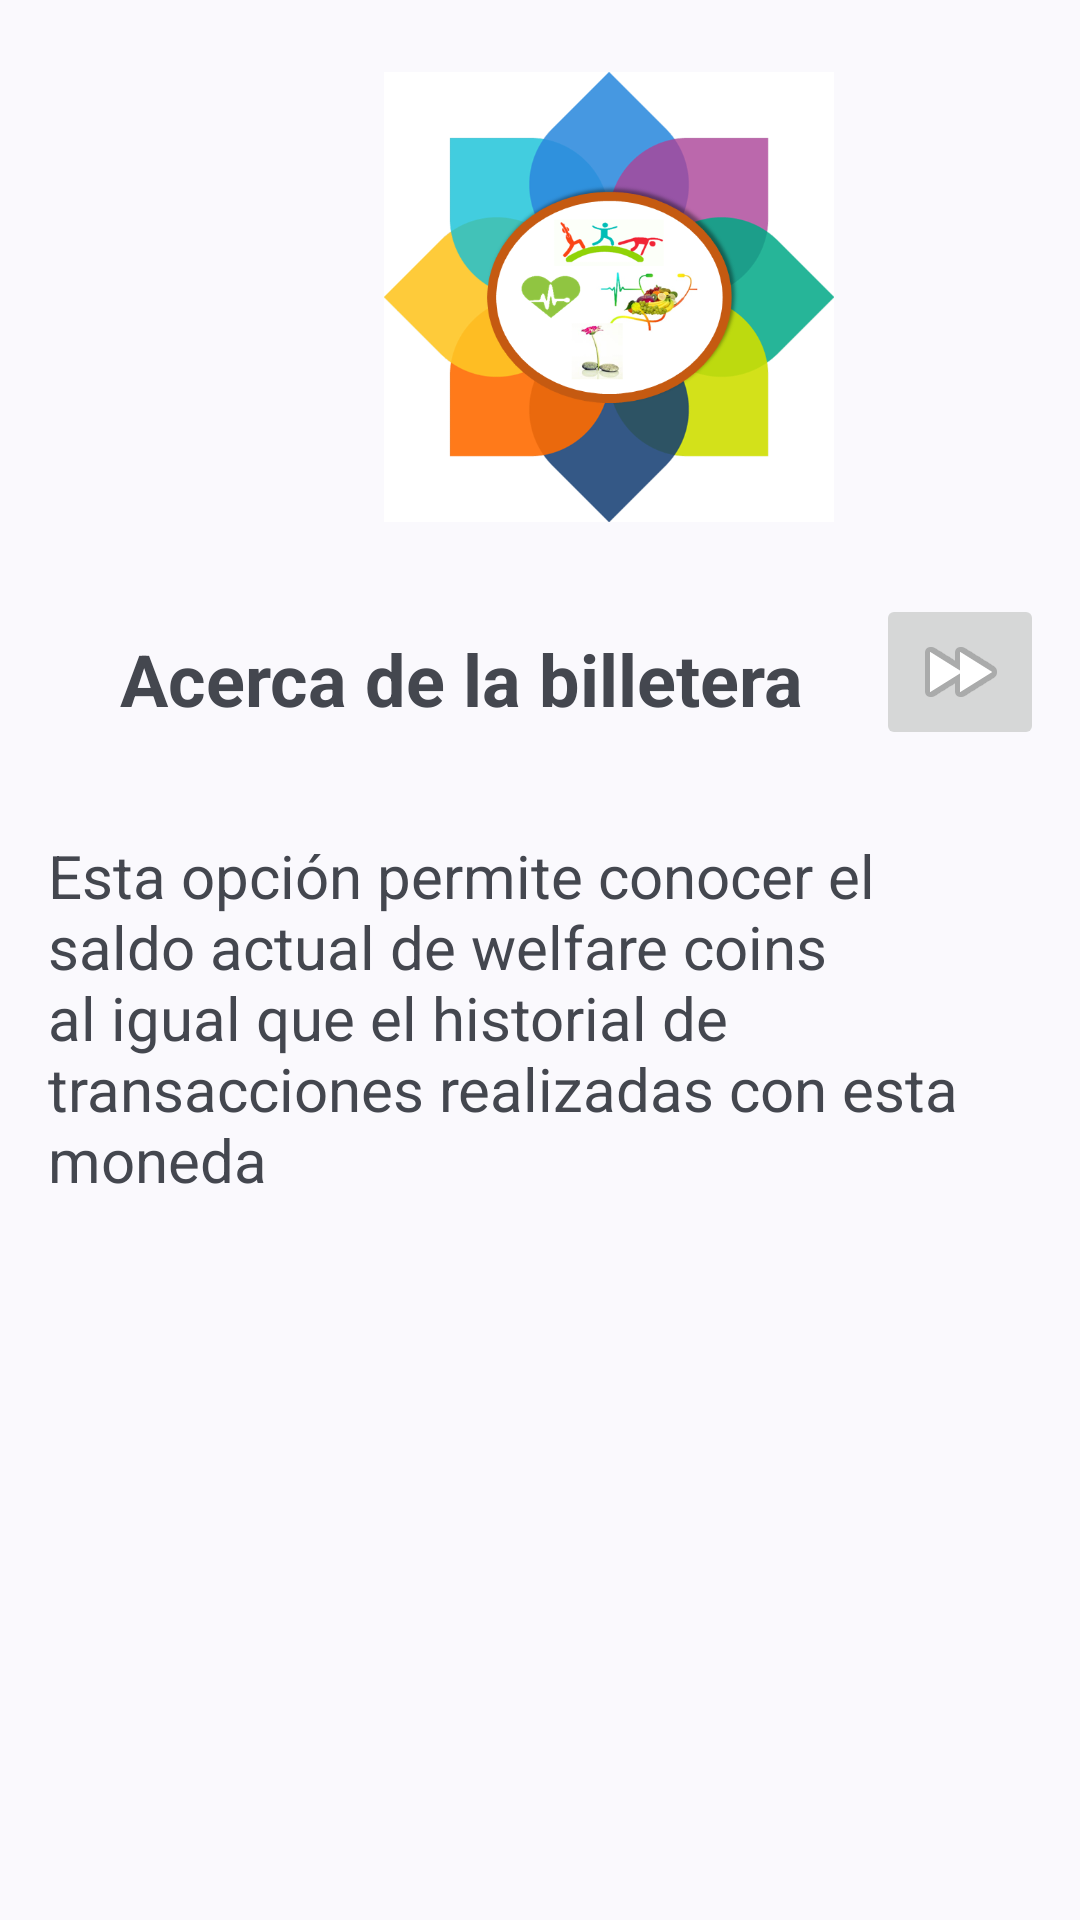

Point at icon controls on the screen. Image size 1080 × 1920, points as (x,y).
Botón para ir a la siguiente pantalla: (960,672)
